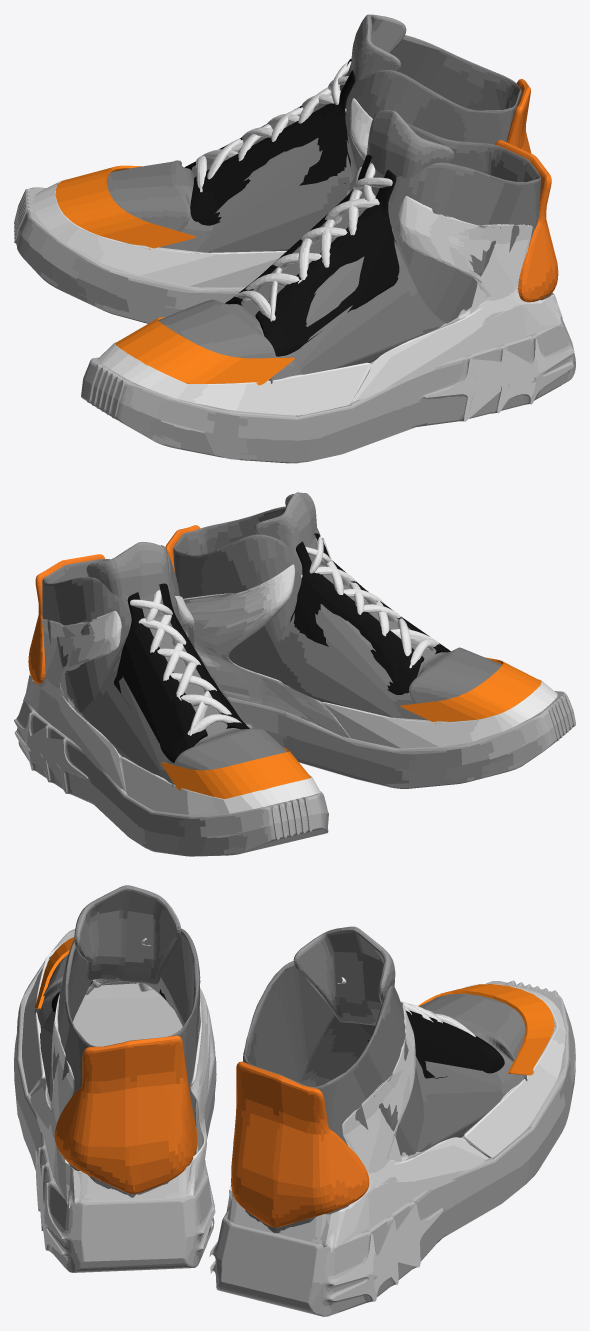
The model's file is uploads_files_3221496_KROOS1low.fbx.
3 renders of one model, top to bottom at view 1: azimuth 30°, elevation 25°; view 2: azimuth 150°, elevation 25°; view 3: azimuth 270°, elevation 25°, orthographic. The views are drawn at different scales.
Visible parts, largest first — view 1: Plane.001, Plane; view 2: Plane.001, Plane; view 3: Plane, Plane.001.
Part boxes in pixels (bbox=[...]): Plane.001: bbox=[81, 110, 575, 463]; Plane: bbox=[14, 14, 531, 323]; Plane.001: bbox=[165, 492, 575, 788]; Plane: bbox=[14, 542, 328, 856]; Plane: bbox=[209, 926, 575, 1316]; Plane.001: bbox=[14, 885, 216, 1272].
Size of what is drawn, in the model's own units: 559 by 284 by 461.
